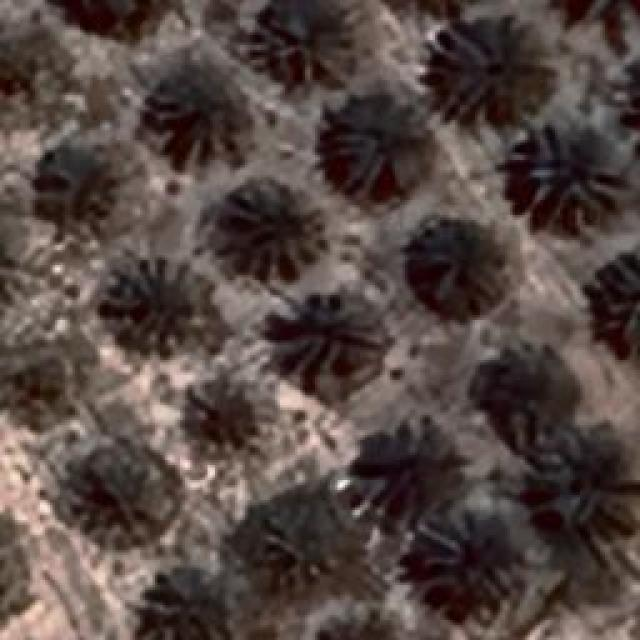PalmTree: (520, 108, 630, 228), (434, 19, 548, 122), (272, 282, 390, 380), (320, 95, 430, 200), (215, 182, 328, 280), (66, 436, 164, 544), (108, 260, 210, 355), (422, 520, 518, 618), (152, 72, 250, 166), (410, 218, 510, 310), (0, 333, 91, 424), (365, 428, 460, 512), (128, 565, 232, 640), (265, 8, 355, 88), (540, 445, 620, 533), (494, 356, 576, 434), (186, 380, 262, 458), (36, 144, 104, 226), (50, 0, 174, 43), (260, 520, 330, 582), (600, 245, 638, 353), (0, 24, 44, 117), (0, 523, 42, 616), (0, 221, 41, 313), (303, 607, 416, 640), (527, 0, 640, 32)
